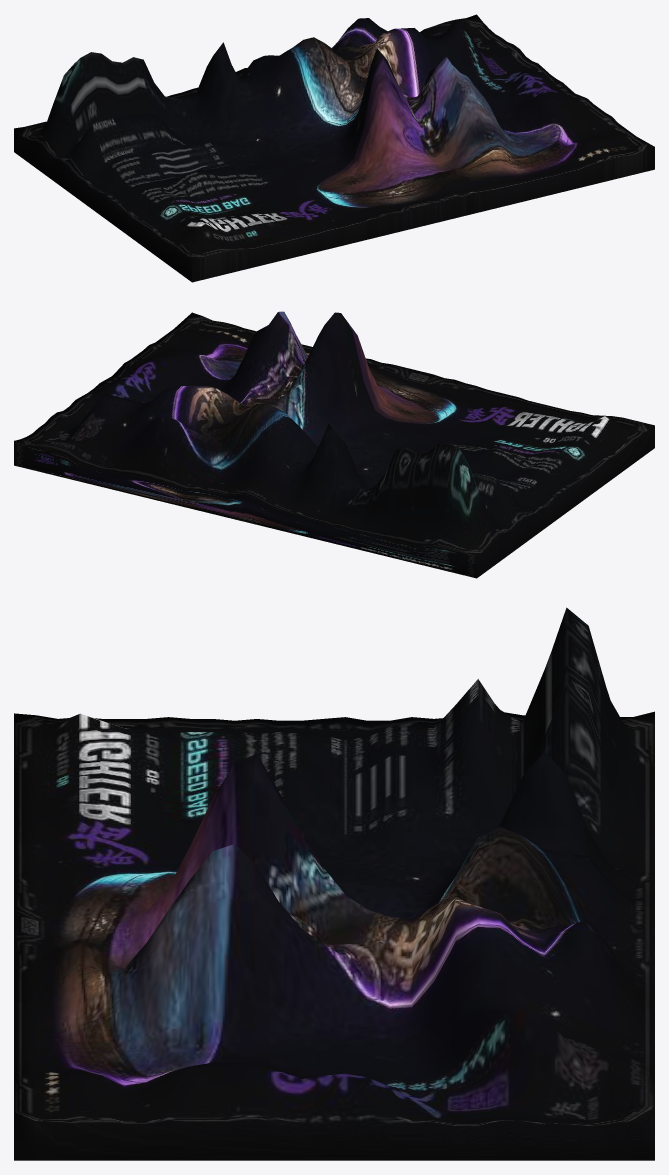
The model's file is CAREER_06_Tool_06_Speed_Bag.glb.
The picture shows the model from 3 angles, top to bottom: view 1: azimuth 30°, elevation 25°; view 2: azimuth 150°, elevation 25°; view 3: azimuth 270°, elevation 25°; orthographic projection. The views are drawn at different scales.
Visible parts, largest first — view 1: CAREER_06_Tool_06_Speed_Bag; view 2: CAREER_06_Tool_06_Speed_Bag; view 3: CAREER_06_Tool_06_Speed_Bag.
Part boxes in pixels (x1,y1,x2,y2): CAREER_06_Tool_06_Speed_Bag: (14,14,654,282); CAREER_06_Tool_06_Speed_Bag: (14,311,654,578); CAREER_06_Tool_06_Speed_Bag: (14,607,654,1160).
Size of the model in its own units: 2 by 0.51 by 1.33.
Materials: 1 (1 with a texture image).
